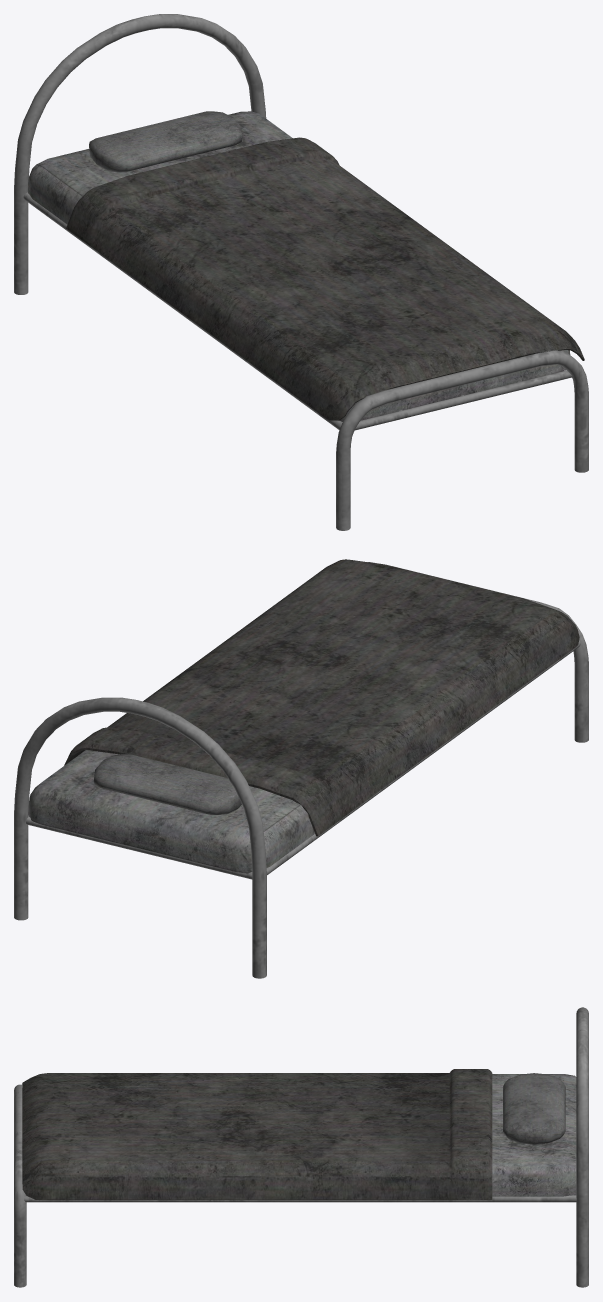
Rendered from bed.glb.
3 renders of one model, top to bottom at view 1: azimuth 30°, elevation 25°; view 2: azimuth 150°, elevation 25°; view 3: azimuth 270°, elevation 25°, orthographic. The views are drawn at different scales.
Parts seen in each view (by area): view 1: Blanket, Frame, Mattress, Pillow; view 2: Blanket, Mattress, Frame, Pillow; view 3: Blanket, Frame, Mattress, Pillow.
Boxes of the visible parts, bbox=[...] form: Blanket: bbox=[66, 137, 584, 420]; Frame: bbox=[14, 14, 588, 530]; Mattress: bbox=[28, 111, 570, 421]; Pillow: bbox=[89, 111, 242, 172]; Blanket: bbox=[64, 559, 579, 836]; Mattress: bbox=[28, 750, 314, 873]; Frame: bbox=[14, 562, 588, 978]; Pillow: bbox=[93, 754, 241, 814]; Blanket: bbox=[22, 1069, 492, 1199]; Frame: bbox=[14, 1007, 588, 1287]; Mattress: bbox=[492, 1074, 576, 1196]; Pillow: bbox=[503, 1073, 565, 1144].
Bounding box in the file's own units: 0.9024 × 0.8197 × 2.
Materials: 4 (4 with a texture image).
